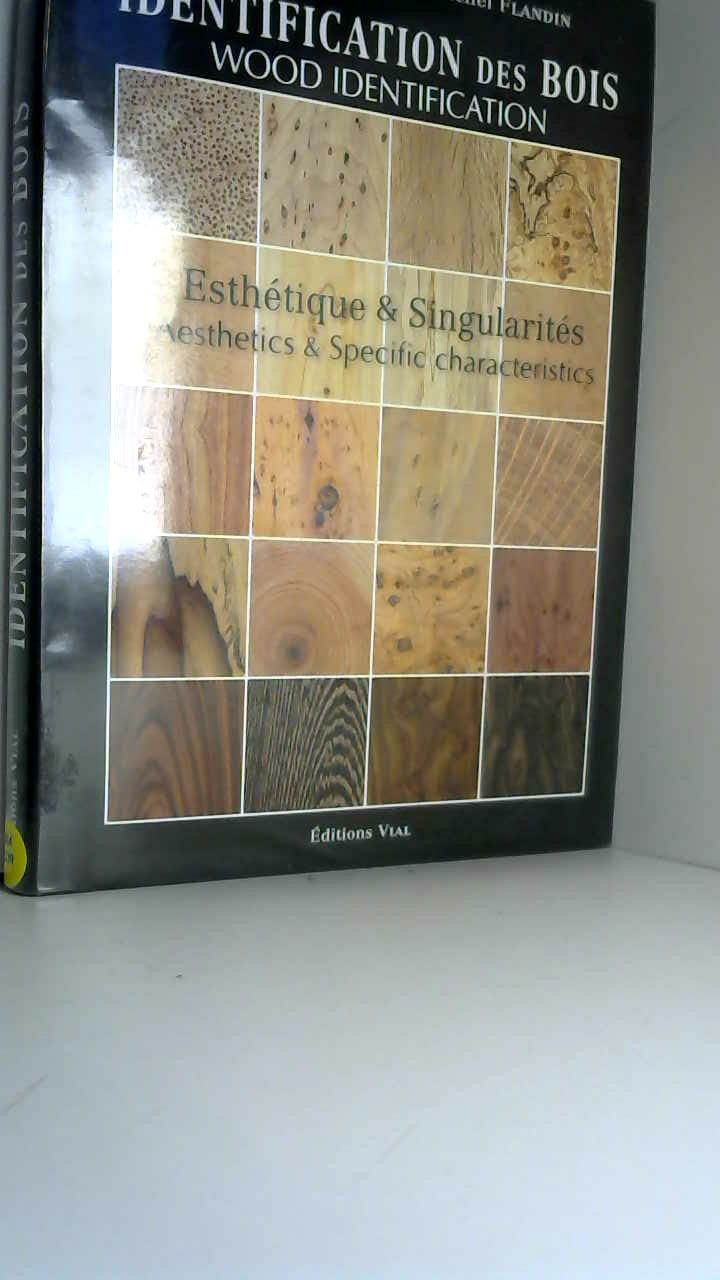book: (3, 0, 675, 921)
